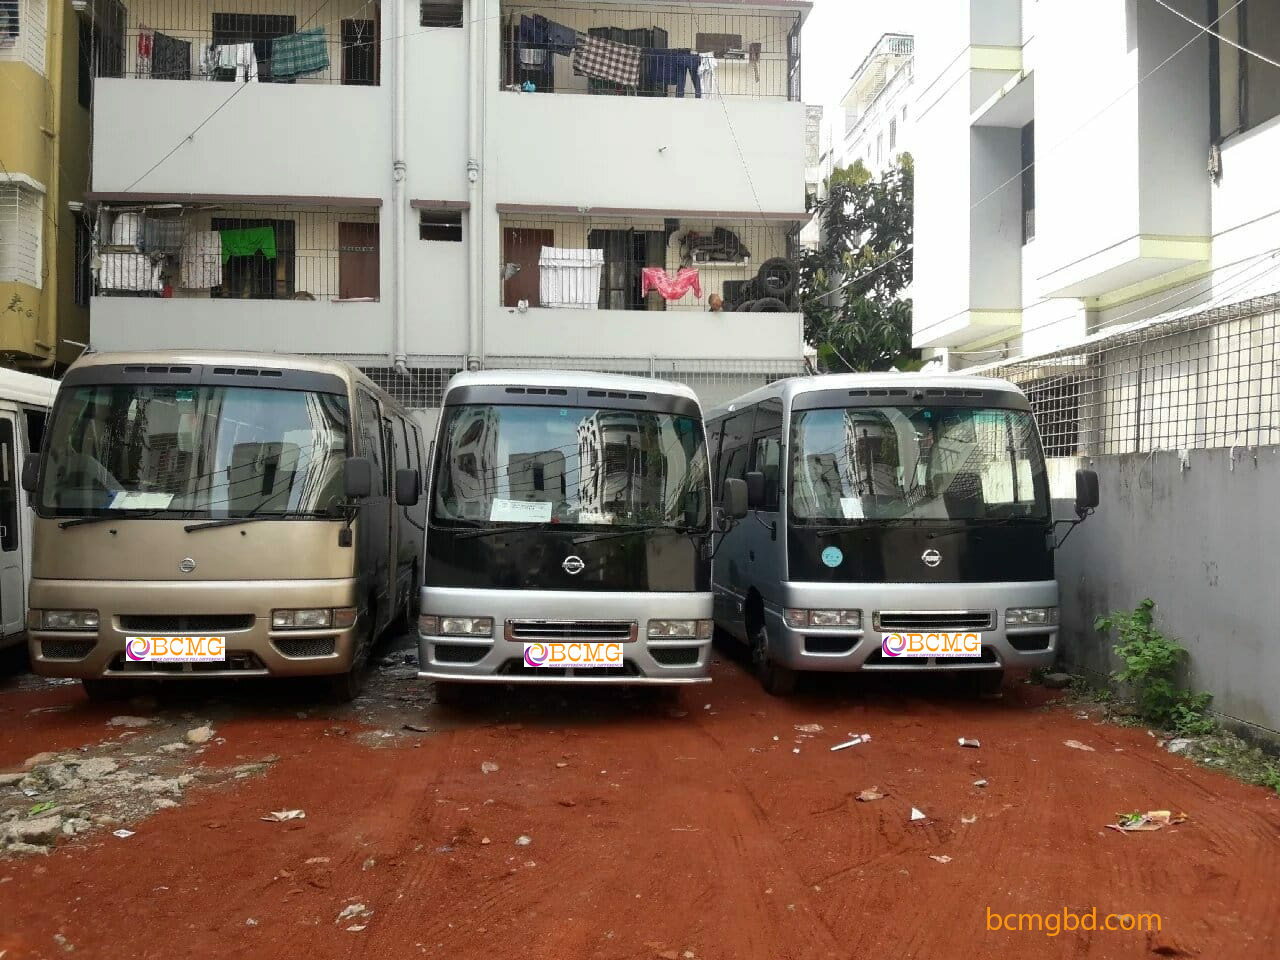bus: (30, 346, 415, 714), (715, 368, 1062, 690), (418, 362, 720, 706)
